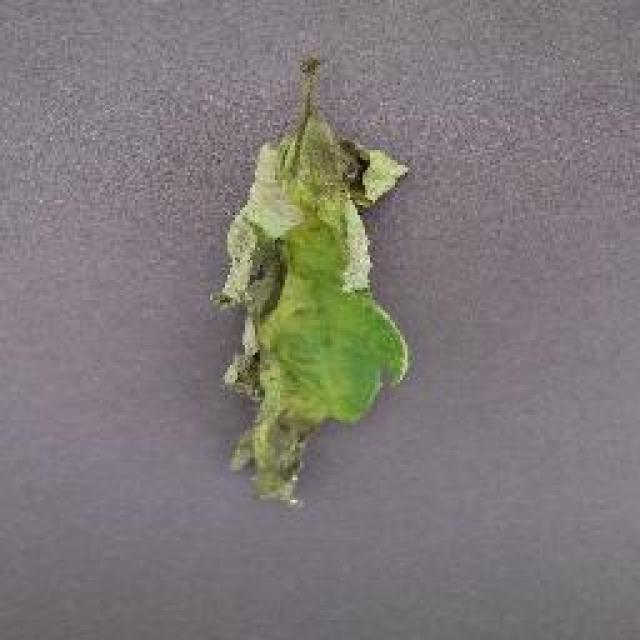Tomato___Late_blight: (215, 58, 408, 502)
